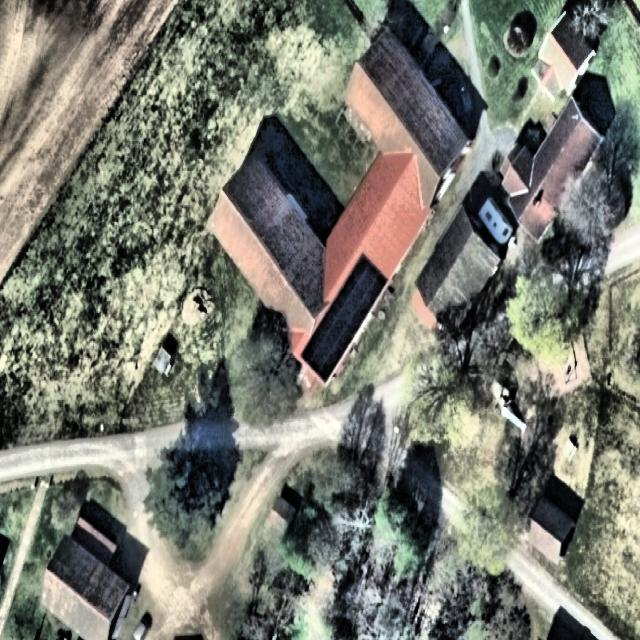roof_pv: (334, 251, 389, 343), (300, 314, 348, 387)
